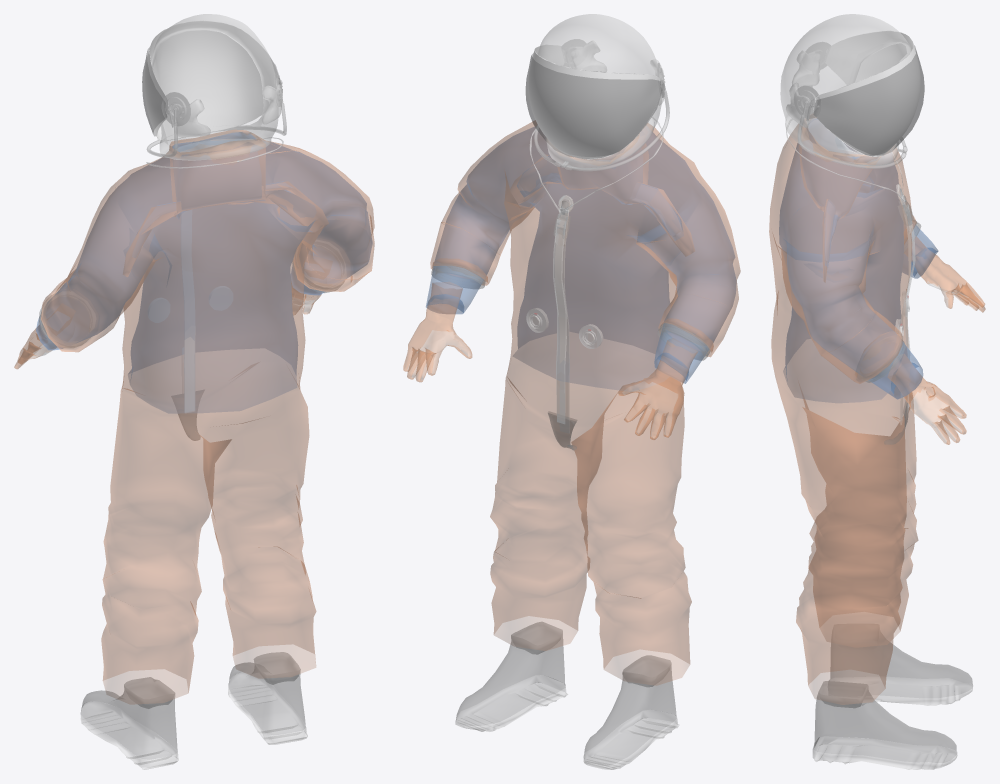
Rendered from crew-escape-suit.glb.
3 renders of one model, left to right at view 1: azimuth 30°, elevation 25°; view 2: azimuth 150°, elevation 25°; view 3: azimuth 270°, elevation 25°, orthographic. The views are drawn at different scales.
Parts seen in each view (by area): view 1: Advanced Crew Escape Suit; view 2: Advanced Crew Escape Suit; view 3: Advanced Crew Escape Suit.
Part boxes in pixels (left/top/right/bottom): Advanced Crew Escape Suit: left=14, top=14, right=374, bottom=769; Advanced Crew Escape Suit: left=403, top=14, right=740, bottom=769; Advanced Crew Escape Suit: left=769, top=14, right=985, bottom=769.
Size of the model in its own units: 0.8871 by 2 by 0.5548.
